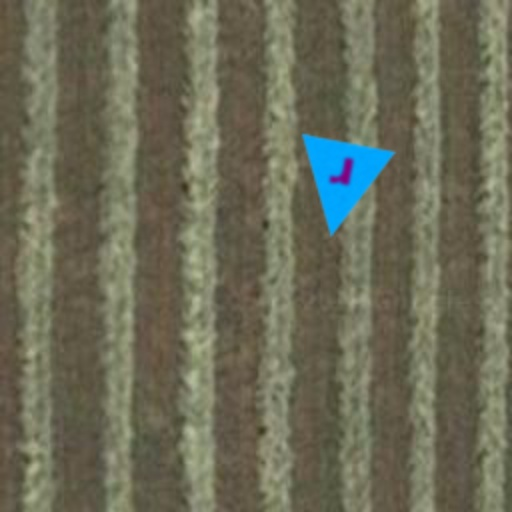triangle: (284, 134, 396, 246)
